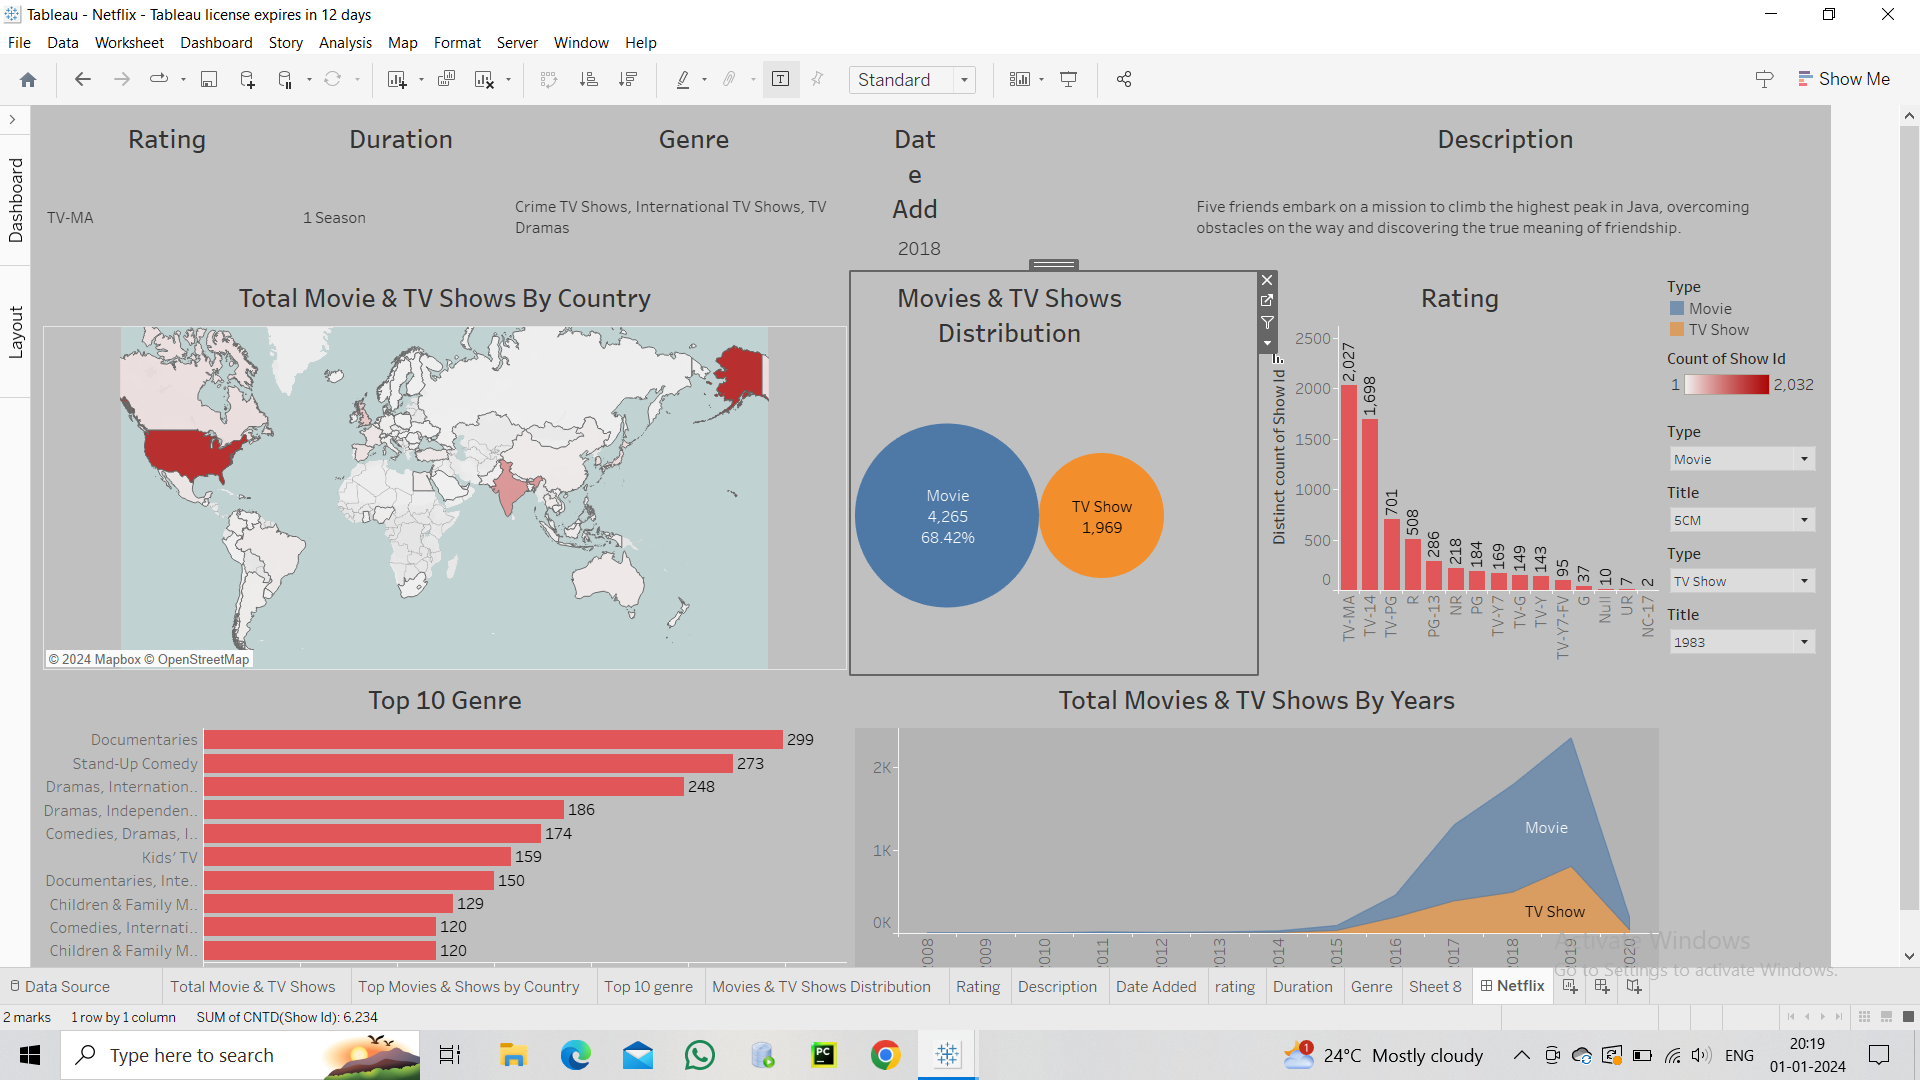

The page's visual inventory and layout, read from the dashboard file:
{"tool":"tableau","page":{"name":"Netflix","canvas":[1800,900],"ordinal":0},"visuals":[{"type":"worksheet","title":"rating","mark":"Automatic","box":[8,8,256,159]},{"type":"worksheet","title":"Duration","mark":"Automatic","box":[264,8,212,159]},{"type":"worksheet","title":"Genre","mark":"Automatic","box":[476,8,374,159]},{"type":"worksheet","title":"Date Added","mark":"Automatic","box":[850,8,202,159]},{"type":"worksheet","title":"Description","mark":"Automatic","box":[1052,8,740,159]},{"type":"worksheet","title":"Top Movies & Shows by Country","mark":"Multipolygon","box":[8,167,812,401.9]},{"type":"worksheet","title":"Movies & TV Shows Distribution","mark":"Circle","box":[820,167,406,401.9]},{"type":"worksheet","title":"Rating","mark":"Automatic","rows":["show_id"],"cols":["rating"],"box":[1226,167,406,401.9]},{"type":"legend","title":"Total Movie & TV Shows","param":"[federated.1agu6dv01htebp1c6fr1c1o0xiiq].[none:type:nk]","box":[1632,167,160,72]},{"type":"legend","title":"Top Movies & Shows by Country","param":"[federated.1agu6dv01htebp1c6fr1c1o0xiiq].[cnt:show_id:qk]","box":[1632,239,160,73]},{"type":"filter","title":"Description","param":"[federated.1agu6dv01htebp1c6fr1c1o0xiiq].[none:type:nk]","box":[1632,312,160,61]},{"type":"filter","title":"Description","param":"[federated.1agu6dv01htebp1c6fr1c1o0xiiq].[none:title:nk]","box":[1632,373,160,61]},{"type":"filter","title":"rating","param":"[federated.1agu6dv01htebp1c6fr1c1o0xiiq].[none:type:nk]","box":[1632,434,160,61]},{"type":"filter","title":"rating","param":"[federated.1agu6dv01htebp1c6fr1c1o0xiiq].[none:title:nk]","box":[1632,495,160,61]},{"type":"worksheet","title":"Top 10 genre","mark":"Automatic","rows":["listed_in"],"cols":["show_id"],"box":[8,568.9,812,323.1]},{"type":"worksheet","title":"Total Movie & TV Shows","mark":"Area","rows":["show_id"],"cols":["date_added"],"box":[820,568.9,812,323.1]}]}

Visuals, with their boxes on the page's 1800x900 design canvas (x1, y1, x2, y2). These are canvas units, not pixel positions in the 1920x1080 screenshot, which may show the page scaled, cropped or inside an application window:
"rating" worksheet: select_region(8, 8, 264, 167)
"Duration" worksheet: select_region(264, 8, 476, 167)
"Genre" worksheet: select_region(476, 8, 850, 167)
"Date Added" worksheet: select_region(850, 8, 1052, 167)
"Description" worksheet: select_region(1052, 8, 1792, 167)
"Top Movies & Shows by Country" worksheet (Multipolygon marks): select_region(8, 167, 820, 569)
"Movies & TV Shows Distribution" worksheet (Circle marks): select_region(820, 167, 1226, 569)
"Rating" worksheet: select_region(1226, 167, 1632, 569)
"Total Movie & TV Shows" legend: select_region(1632, 167, 1792, 239)
"Top Movies & Shows by Country" legend: select_region(1632, 239, 1792, 312)
"Description" filter: select_region(1632, 312, 1792, 373)
"Description" filter: select_region(1632, 373, 1792, 434)
"rating" filter: select_region(1632, 434, 1792, 495)
"rating" filter: select_region(1632, 495, 1792, 556)
"Top 10 genre" worksheet: select_region(8, 569, 820, 892)
"Total Movie & TV Shows" worksheet (Area marks): select_region(820, 569, 1632, 892)
